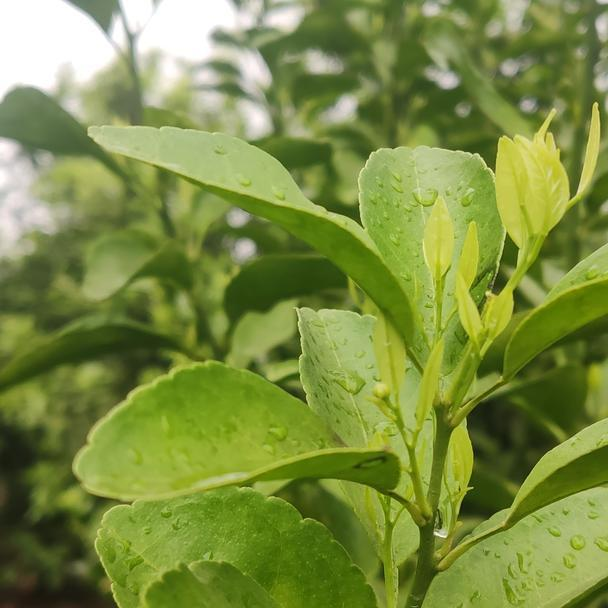shoot: (489, 100, 604, 276), (360, 315, 448, 465), (414, 188, 481, 316), (457, 286, 517, 373)
